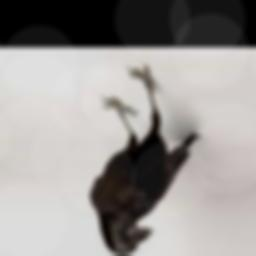Crow: (89, 63, 200, 256)
